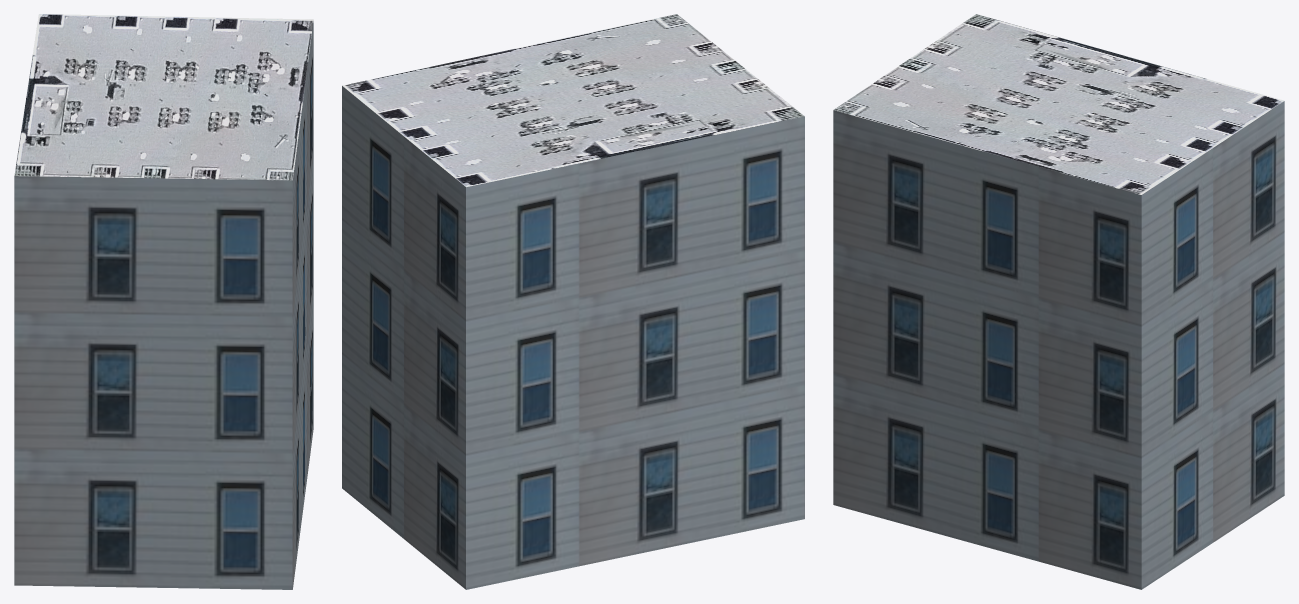
Rendered from ResTex__3410.fbx.
3 renders of one model, left to right at view 1: azimuth 30°, elevation 25°; view 2: azimuth 150°, elevation 25°; view 3: azimuth 270°, elevation 25°, orthographic. The views are drawn at different scales.
Visible parts, largest first — view 1: CityEngineMaterial_18_m, CityEngineMaterial_4_m; view 2: CityEngineMaterial_18_m, CityEngineMaterial_4_m; view 3: CityEngineMaterial_18_m, CityEngineMaterial_4_m.
Part boxes in pixels (x1=…): CityEngineMaterial_18_m: x1=14, y1=21, x2=313, y2=589; CityEngineMaterial_4_m: x1=14, y1=14, x2=313, y2=180; CityEngineMaterial_18_m: x1=342, y1=86, x2=804, y2=589; CityEngineMaterial_4_m: x1=342, y1=14, x2=804, y2=187; CityEngineMaterial_18_m: x1=833, y1=101, x2=1284, y2=589; CityEngineMaterial_4_m: x1=833, y1=14, x2=1284, y2=194.
Size of the model in its own units: 8.86 by 9 by 9.33.
Materials: 2 (2 with a texture image).
